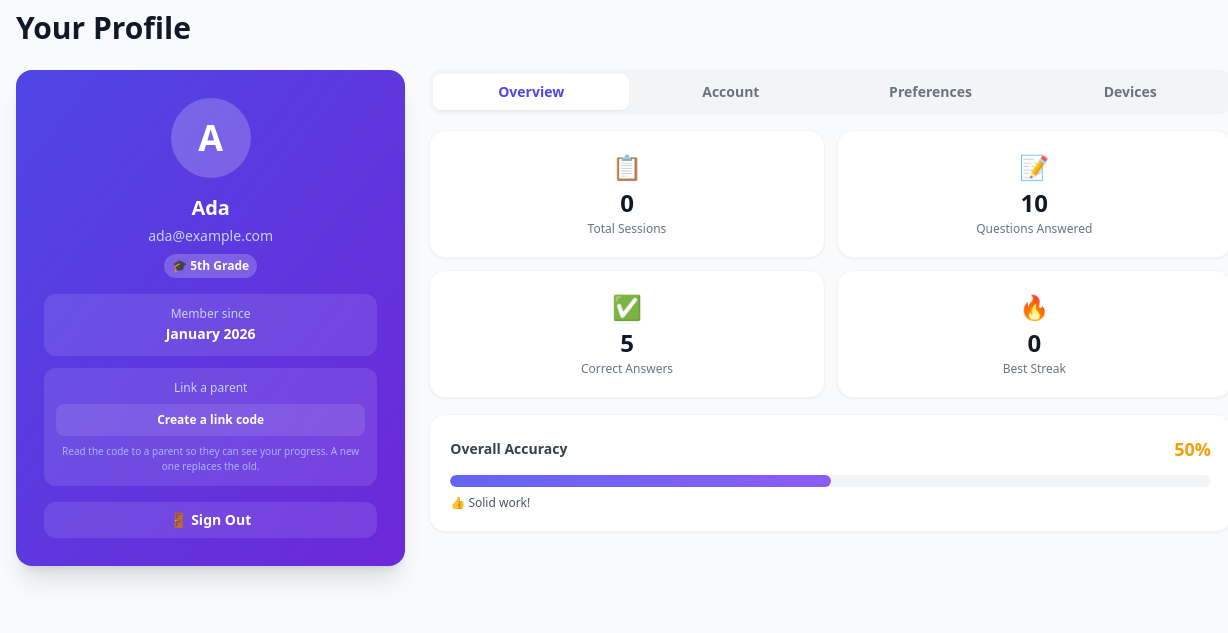
it: offers to create one when there is none
Click the button "Create a link code": [211, 420] box [56,404,365,436]
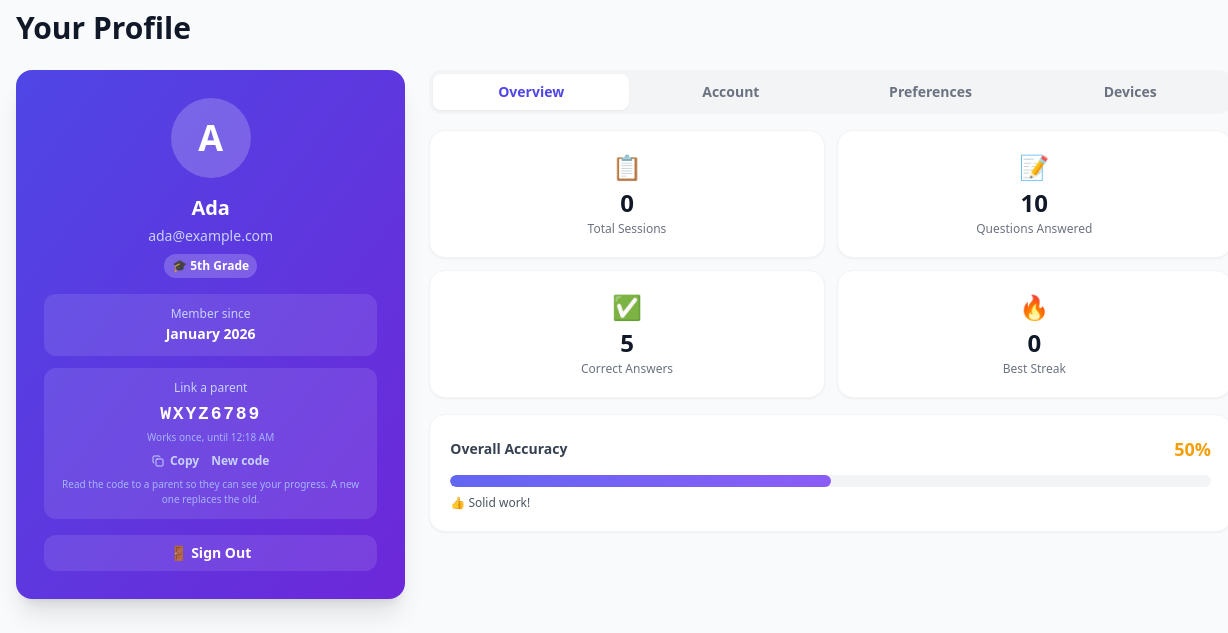
Expected: the text "WXYZ6789" is shown, [160,404,261,424]
